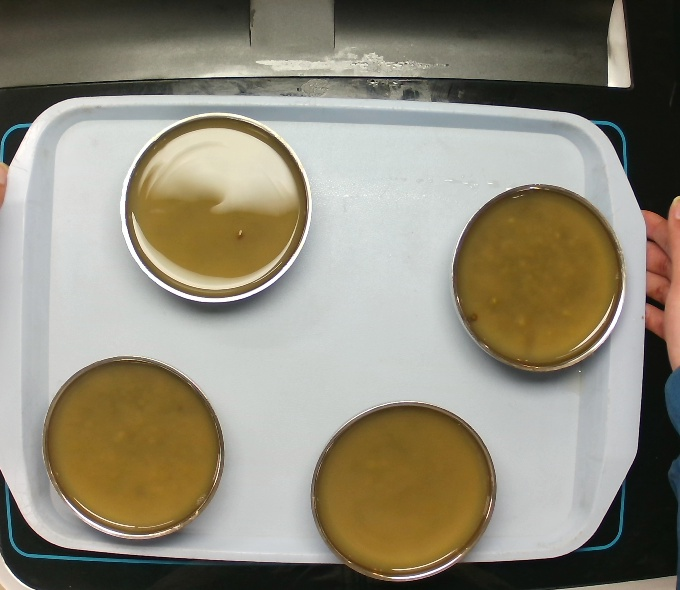wcq-LvDouTang: (119, 109, 314, 304), (37, 353, 227, 541), (308, 398, 500, 584), (448, 181, 629, 374)
